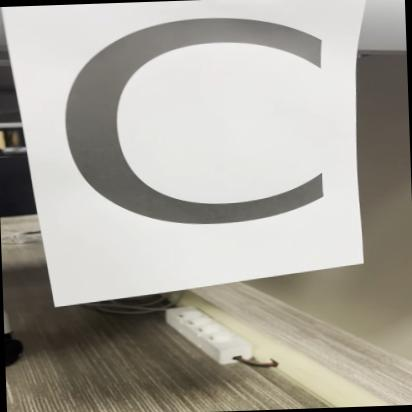seat: (21, 1, 354, 270)
